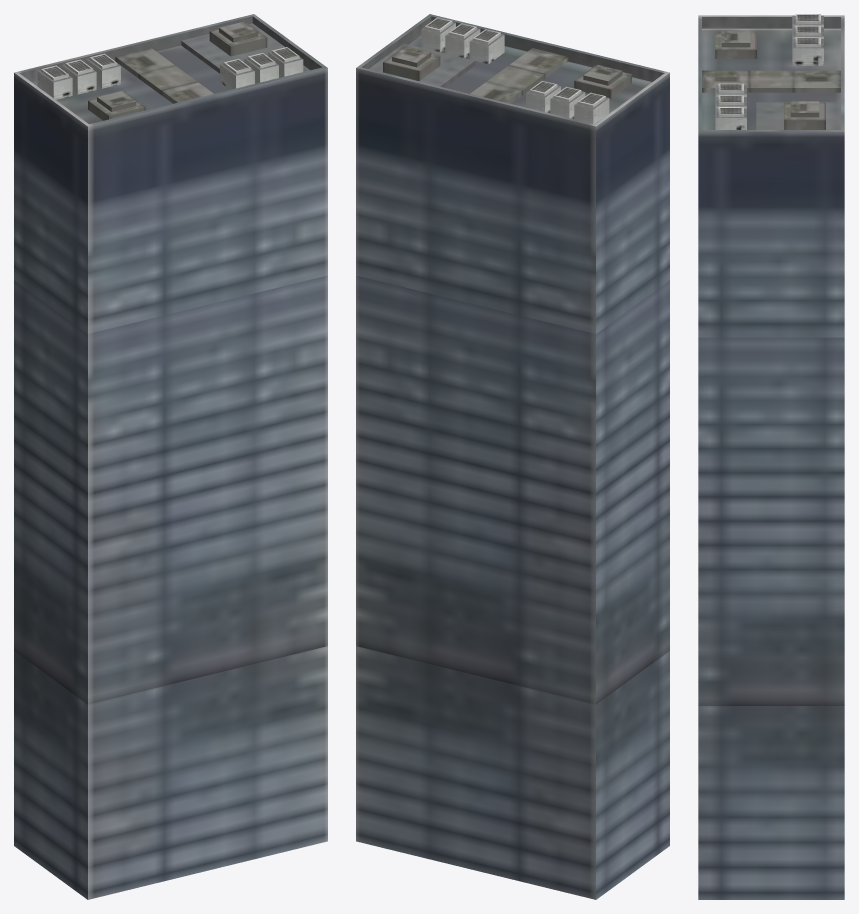
3 renders of one model, left to right at view 1: azimuth 30°, elevation 25°; view 2: azimuth 150°, elevation 25°; view 3: azimuth 270°, elevation 25°, orthographic.
Size of the model in its own units: 0.4693 by 1.46 by 0.2498.
1 material, 1 textured.
